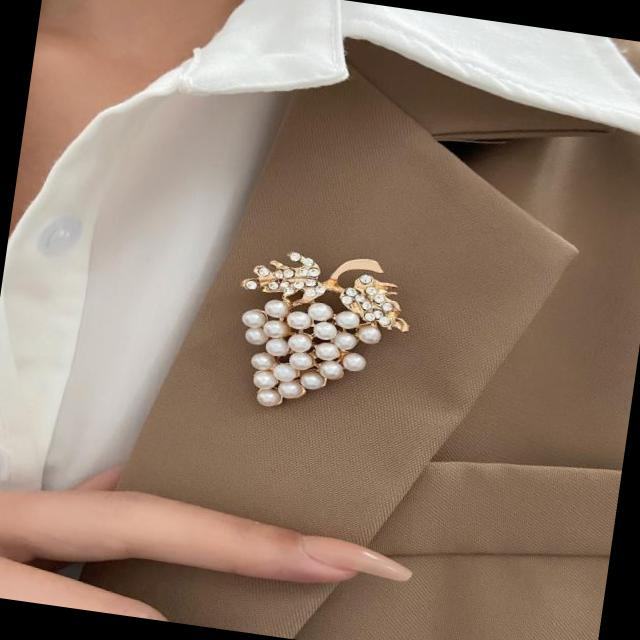Nail: (297, 534, 411, 581)
